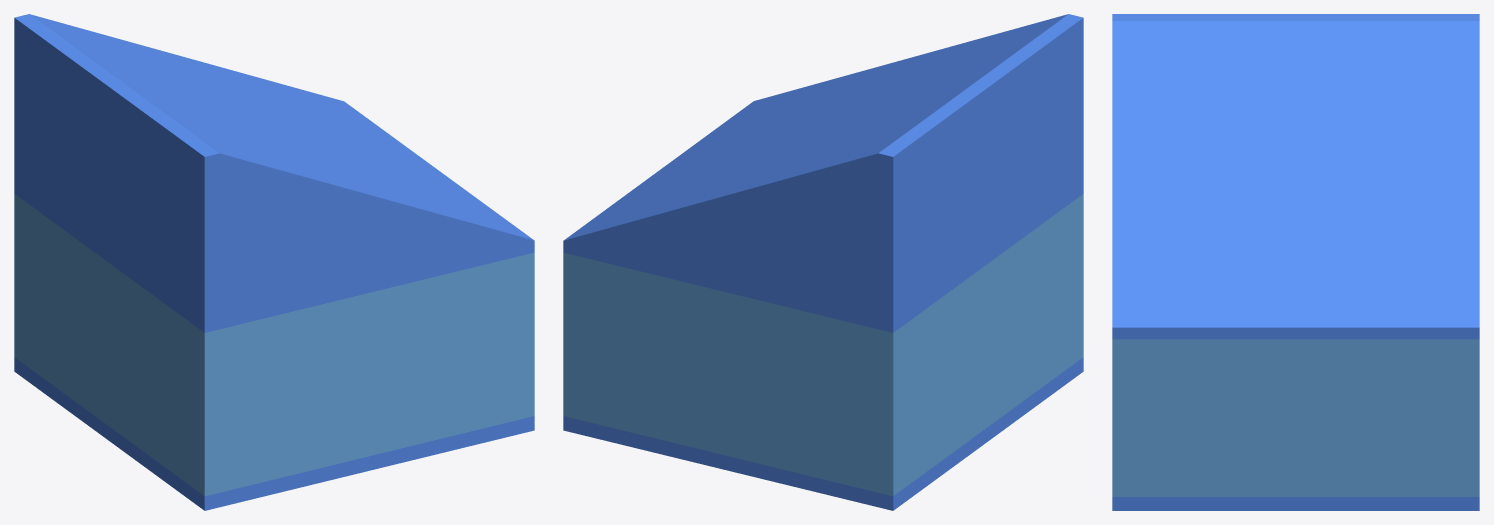
The model's file is building_1x1_8_r.glb.
3 renders of one model, left to right at view 1: azimuth 30°, elevation 25°; view 2: azimuth 150°, elevation 25°; view 3: azimuth 270°, elevation 25°, orthographic. The views are drawn at different scales.
Visible parts, largest first — view 1: Cube.002; view 2: Cube.002; view 3: Cube.002.
Boxes of the visible parts, bbox=[...] form: Cube.002: bbox=[14, 14, 534, 510]; Cube.002: bbox=[563, 14, 1083, 510]; Cube.002: bbox=[1112, 14, 1479, 510].
Size of the model in its own units: 1.56 by 1.6 by 1.56.
